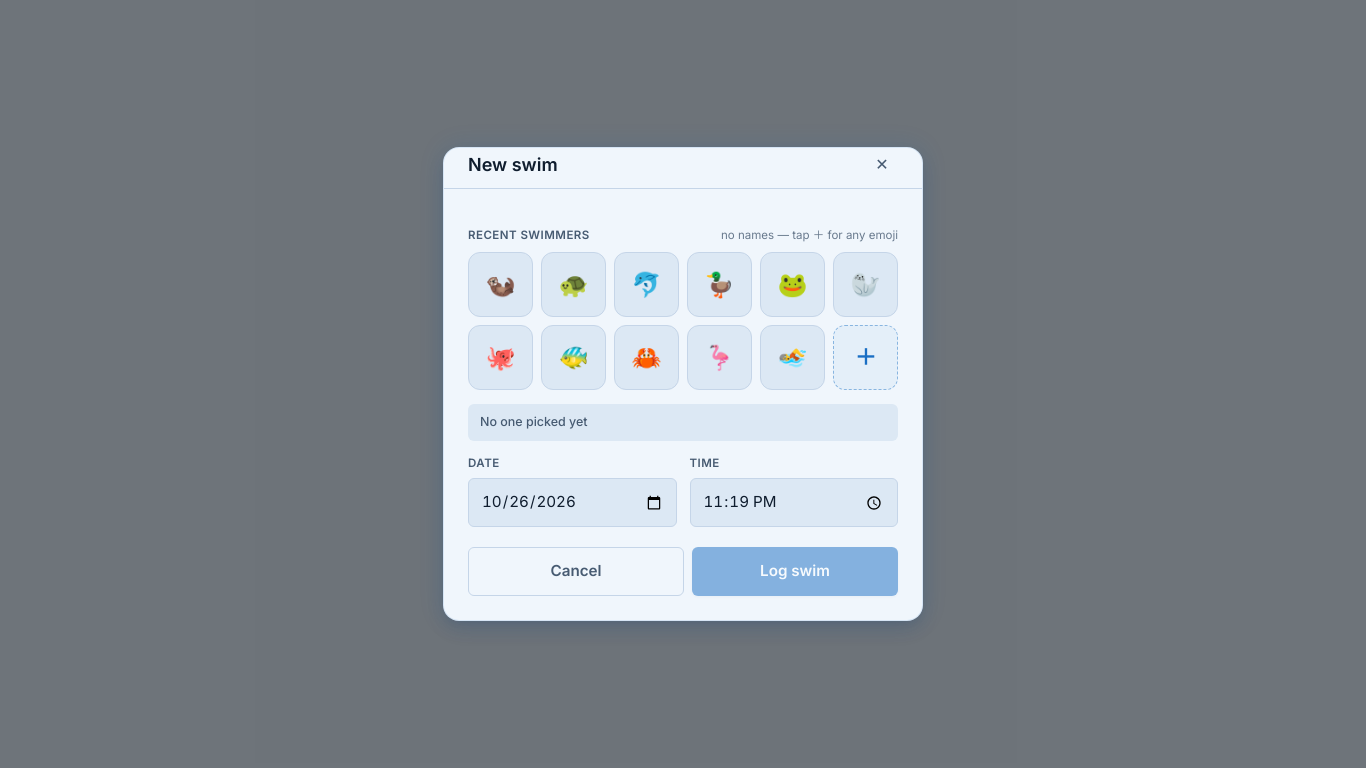
Test case: SwimLogForm › emoji keyboard › opens the keyboard sheet when the ＋ tile is clicked
This screenshot has width=1366, height=768.
Click the button named "open emoji keyboard". click: x=866, y=358
box: x1=833 y1=325 x2=898 y2=390
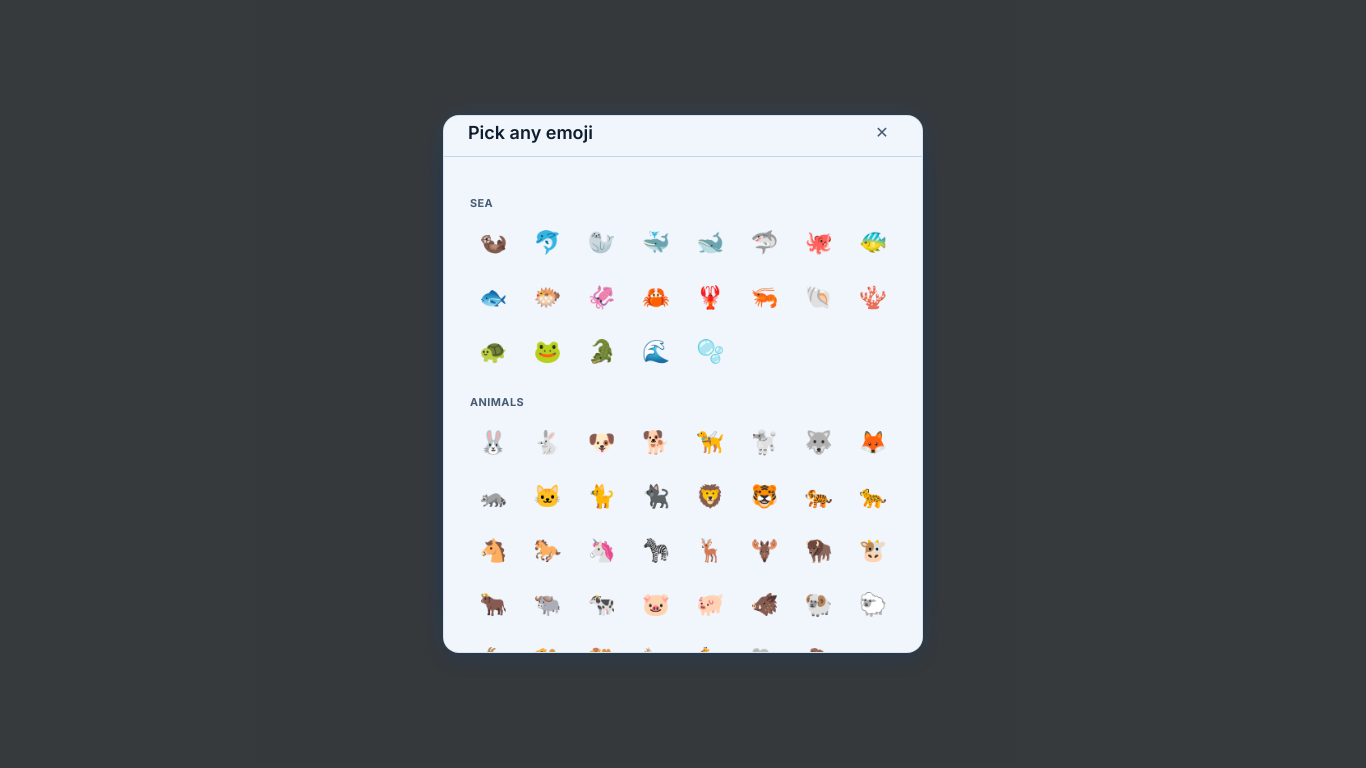
Check: the dialog "Pick any emoji ✕ Sea 🦦 🐬 🦭 🐳 🐋 🦈 🐙 🐠 🐟 🐡 🦑 🦀 🦞 🦐 🐚 🪸 🐢 🐸 🐊 🌊" is shown, box x1=443 y1=115 x2=923 y2=653
